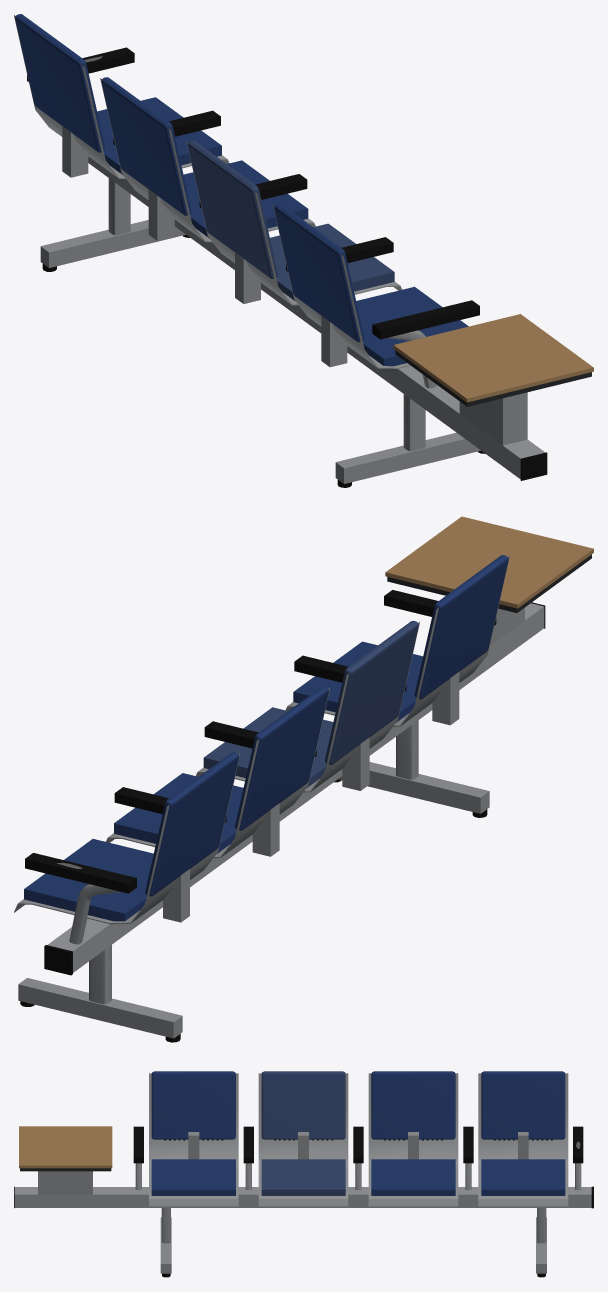
Rendered from seats_row.glb.
3 views of the same model, one above another, from view 1: azimuth 30°, elevation 25°; view 2: azimuth 150°, elevation 25°; view 3: azimuth 270°, elevation 25° (orthographic). The views are drawn at different scales.
Visible parts, largest first — view 1: sitze_4, sitze_2, sitze_0, sitze_8, sitze_5, sitze_1, sitze_7; view 2: sitze_4, sitze_2, sitze_0, sitze_8, sitze_5, sitze_1, sitze_7; view 3: sitze_4, sitze_0, sitze_5, sitze_2, sitze_8, sitze_1, sitze_7.
Boxes of the visible parts, x1=… form: sitze_4: x1=15, y1=14, x2=468, y2=366; sitze_2: x1=40, y1=126, x2=527, y2=483; sitze_0: x1=14, y1=15, x2=545, y2=478; sitze_8: x1=393, y1=314, x2=593, y2=402; sitze_5: x1=187, y1=140, x2=394, y2=305; sitze_1: x1=27, y1=47, x2=547, y2=487; sitze_7: x1=395, y1=350, x2=591, y2=406; sitze_4: x1=24, y1=555, x2=508, y2=921; sitze_2: x1=18, y1=607, x2=524, y2=1038; sitze_0: x1=14, y1=556, x2=544, y2=972; sitze_8: x1=385, y1=516, x2=593, y2=608; sitze_5: x1=203, y1=621, x2=418, y2=792; sitze_1: x1=20, y1=590, x2=545, y2=1042; sitze_7: x1=387, y1=554, x2=591, y2=612; sitze_4: x1=151, y1=1071, x2=565, y2=1195; sitze_0: x1=14, y1=1073, x2=591, y2=1207; sitze_5: x1=261, y1=1071, x2=345, y2=1195; sitze_2: x1=38, y1=1132, x2=581, y2=1273; sitze_8: x1=19, y1=1126, x2=112, y2=1168; sitze_1: x1=14, y1=1126, x2=593, y2=1277; sitze_7: x1=20, y1=1168, x2=111, y2=1171.
Bounding box in the file's own units: 0.656 × 0.9421 × 3.17.
